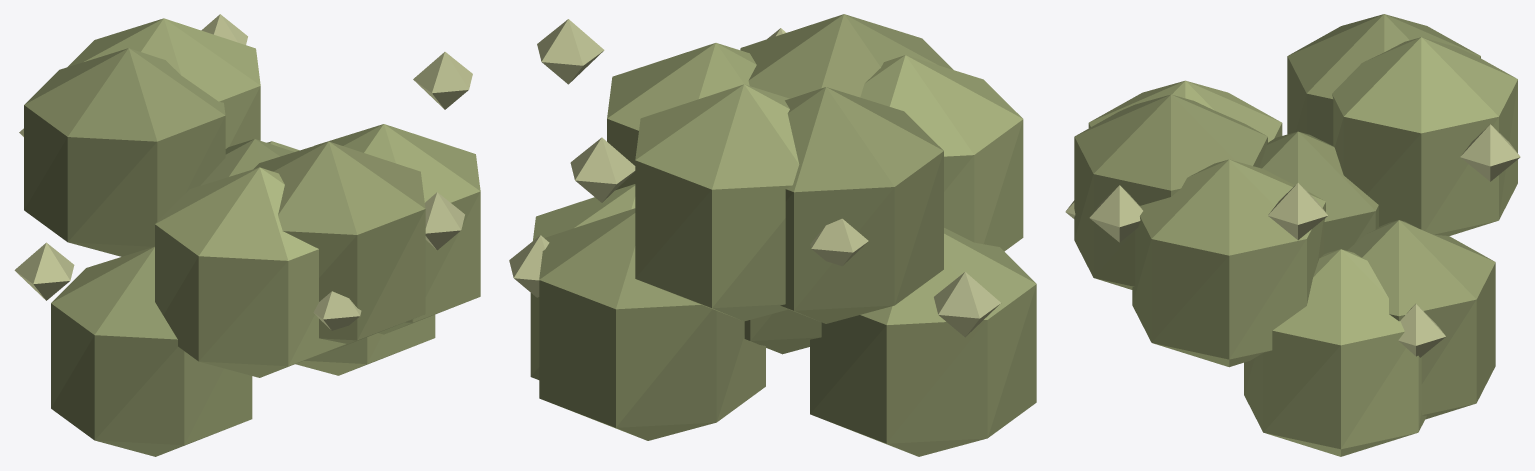
The model's file is proj_spore.glb.
3 renders of one model, left to right at view 1: azimuth 30°, elevation 25°; view 2: azimuth 150°, elevation 25°; view 3: azimuth 270°, elevation 25°, orthographic. The views are drawn at different scales.
Visible parts, largest first — view 1: projectile; view 2: projectile; view 3: projectile.
Part boxes in pixels (left/top/right/bottom): projectile: left=14, top=14, right=480, bottom=456; projectile: left=509, top=14, right=1036, bottom=456; projectile: left=1065, top=14, right=1520, bottom=456.
Size of the model in its own units: 0.4 by 0.3273 by 0.3754.
